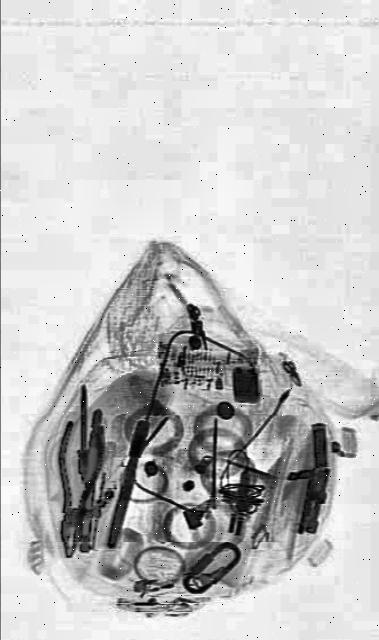Pliers: (47, 414, 109, 564)
